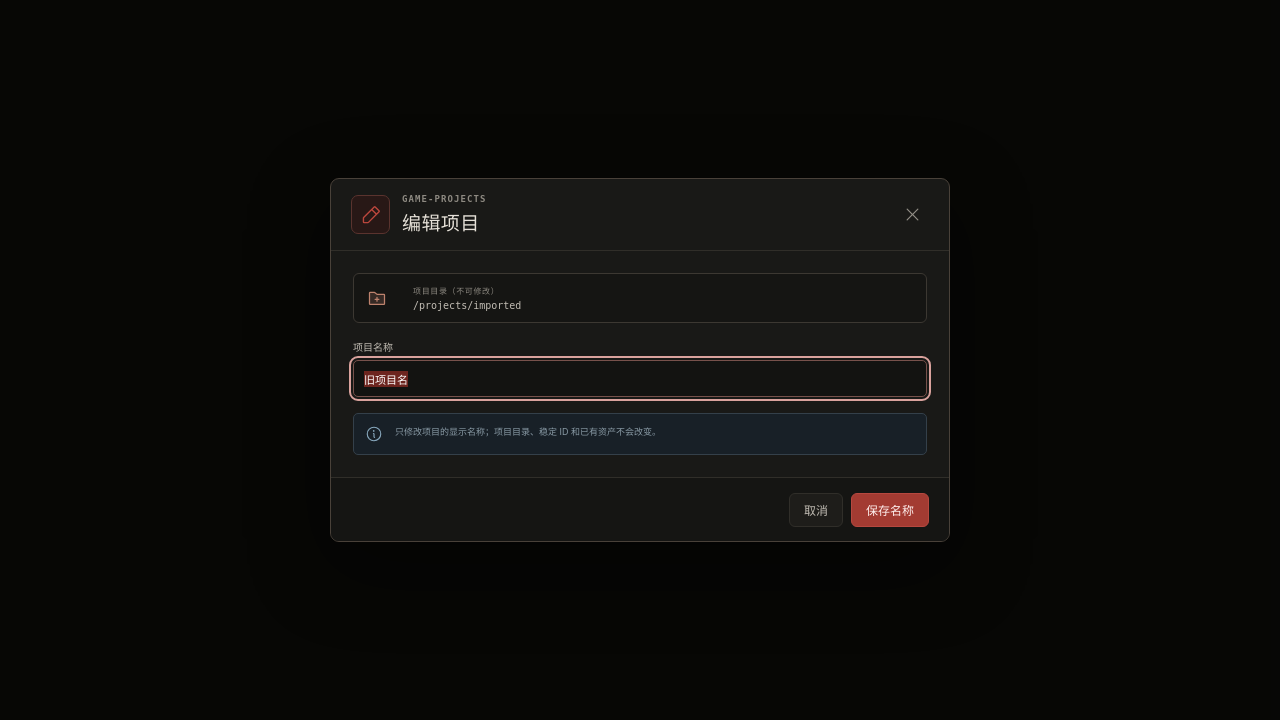
Scenario: ProjectDialog › 可以修改已导入项目的名称而不修改目录
expect the heading "编辑项目" is shown: met, box [402,212,480,235]
Replace the text in the field labelled "项目名称" with "新项目名" at (640, 378), box [353,360,927,397]
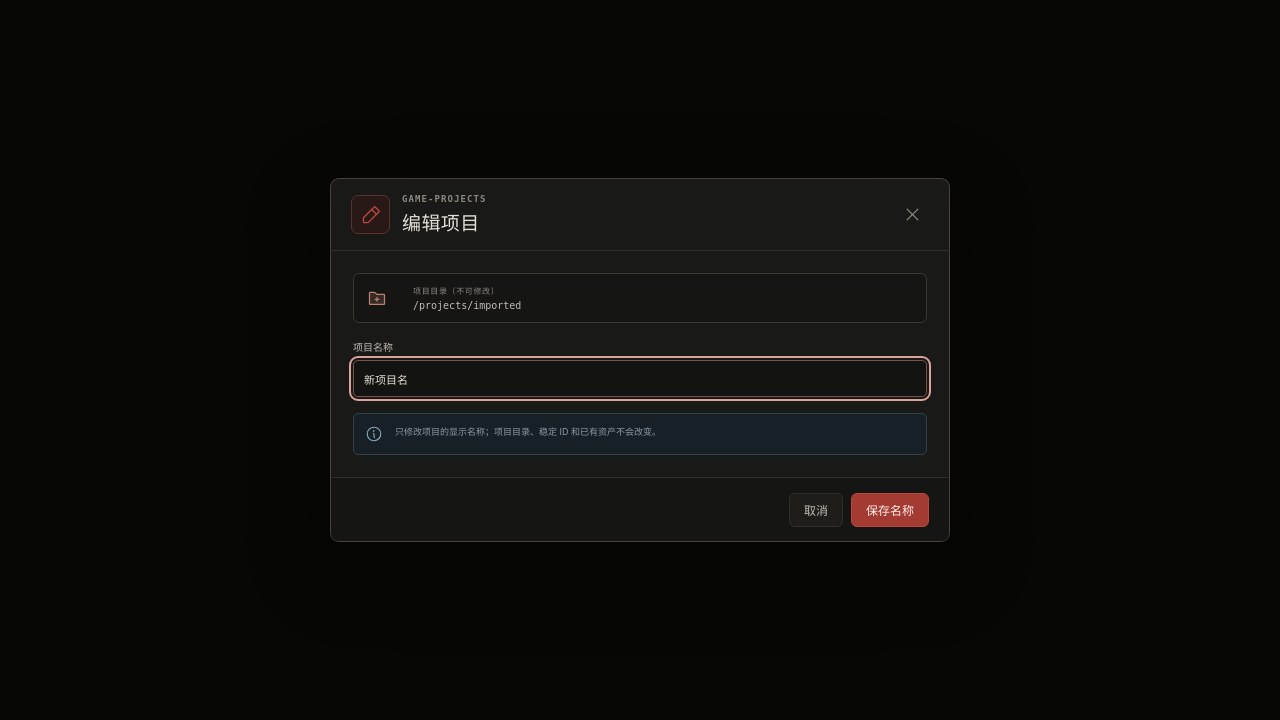
Click the button "保存名称" at (890, 510), box [851,492,929,526]
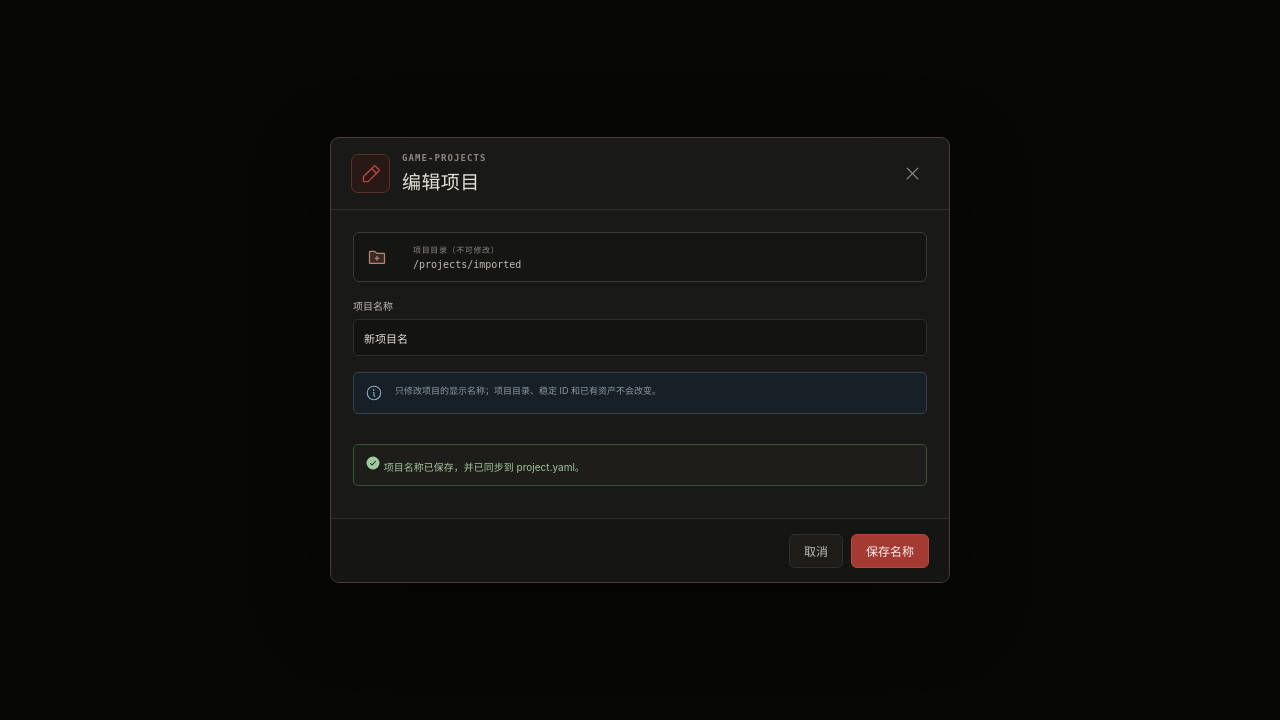
expect the text "项目名称已保存，并已同步到 project.yaml。" is shown: met, box [353,444,927,486]
